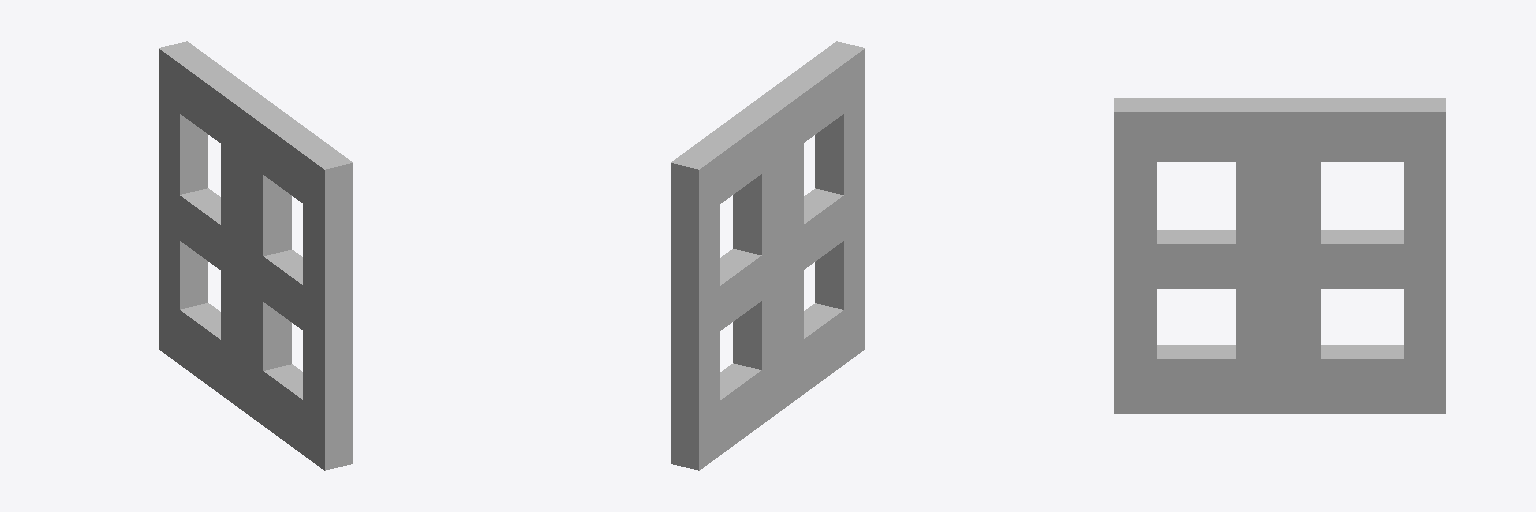
The model's file is window.obj.
3 renders of one model, left to right at view 1: azimuth 30°, elevation 25°; view 2: azimuth 150°, elevation 25°; view 3: azimuth 270°, elevation 25°, orthographic.
Parts seen in each view (by area): view 1: Box; view 2: Box; view 3: Box.
Boxes of the visible parts, x1=… form: Box: x1=159, y1=41, x2=352, y2=470; Box: x1=671, y1=41, x2=864, y2=470; Box: x1=1114, y1=98, x2=1445, y2=413.
Size of the model in its own units: 0.1 by 1 by 1.